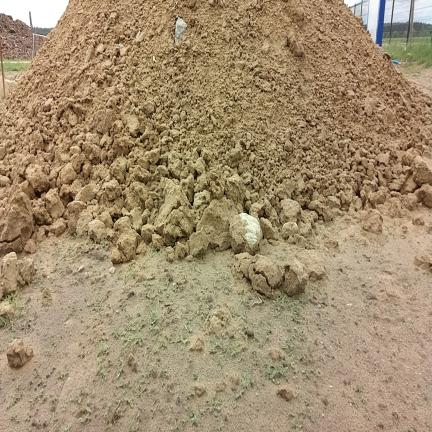Rock: (230, 213, 262, 254), (175, 18, 187, 41)
